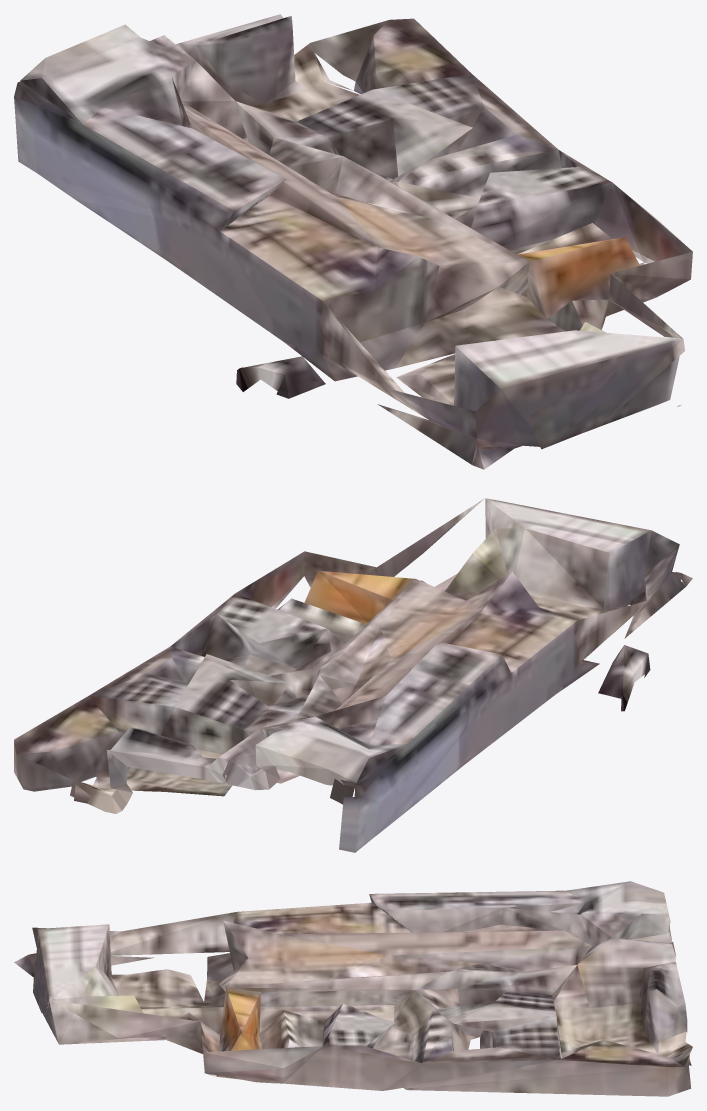
3 views of the same model, one above another, from view 1: azimuth 30°, elevation 25°; view 2: azimuth 150°, elevation 25°; view 3: azimuth 270°, elevation 25° (orthographic). The views are drawn at different scales.
Visible parts, largest first — view 1: Mesh_0; view 2: Mesh_0; view 3: Mesh_0.
Boxes of the visible parts, box(x1,y1,x2,y2) form: Mesh_0: box(14, 14, 692, 469); Mesh_0: box(14, 498, 692, 852); Mesh_0: box(14, 881, 692, 1096).
Size of the model in its own units: 23.41 by 6.21 by 41.03.
Materials: 1 (1 with a texture image).
